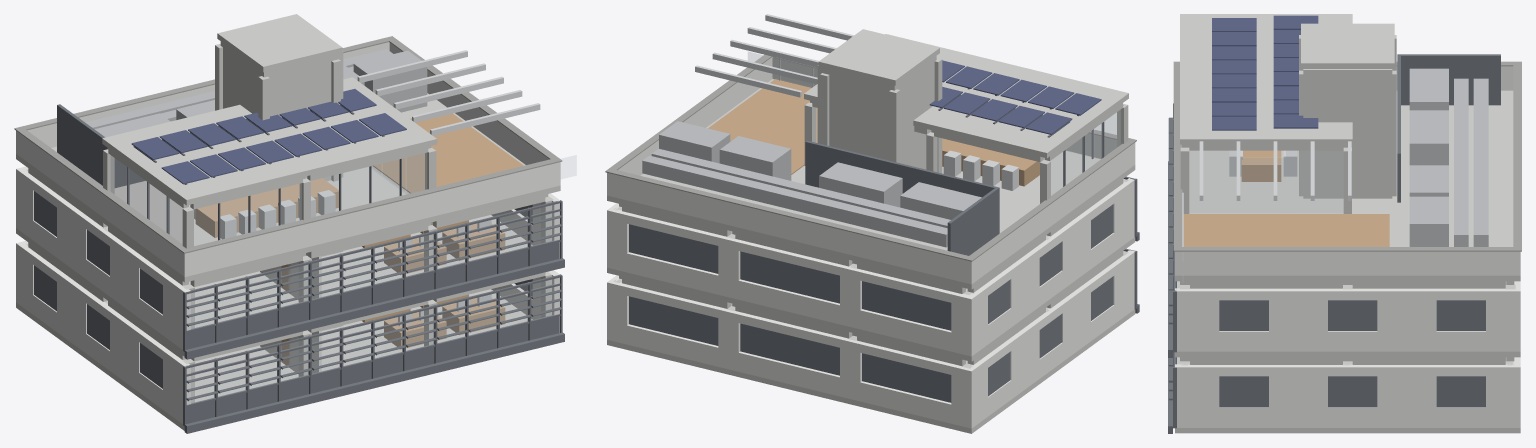
The model's file is newton-from-floor-4.glb.
The picture shows the model from 3 angles, left to right: view 1: azimuth 30°, elevation 25°; view 2: azimuth 150°, elevation 25°; view 3: azimuth 270°, elevation 25°; orthographic projection. The views are drawn at different scales.
Parts seen in each view (by area): view 1: IFC IfcSlab 7173, IFC IfcWall 18209, IFC IfcSlab 6377, IFC IfcSlab 6737, IFC IfcSlab 7097, IFC IfcCovering 43161, IFC IfcSlab 7268, IFC IfcCovering 36125, IFC IfcCovering 38741, IFC IfcWall 18247, IFC IfcWall 7249, IFC IfcFurnishingElement 42914 (+90 smaller); view 2: IFC IfcWall 18228, IFC IfcSlab 7173, IFC IfcFlowSegment 44149, IFC IfcWall 7230, IFC IfcCovering 43161, IFC IfcSlab 7268, IFC IfcWall 18247, IFC IfcSlab 7116, IFC IfcWall 44187, IFC IfcFlowSegment 44130, IFC IfcWindow 16703, IFC IfcWindow 17855 (+82 smaller); view 3: IFC IfcWall 7211, IFC IfcSlab 7173, IFC IfcWall 18266, IFC IfcSlab 7116, IFC IfcCovering 43161, IFC IfcSlab 7097, IFC IfcSlab 7268, IFC IfcWall 17152, IFC IfcWall 16000, IFC IfcWall 17114, IFC IfcWall 15962, IFC IfcWall 42895 (+70 smaller).
Boxes of the visible parts, bbox=[...] form: IFC IfcSlab 7173: bbox=[102, 77, 437, 205]; IFC IfcWall 18209: bbox=[181, 162, 560, 276]; IFC IfcSlab 6377: bbox=[122, 289, 532, 430]; IFC IfcSlab 6737: bbox=[122, 215, 532, 356]; IFC IfcSlab 7097: bbox=[122, 141, 560, 282]; IFC IfcCovering 43161: bbox=[373, 113, 523, 193]; IFC IfcSlab 7268: bbox=[217, 14, 342, 72]; IFC IfcCovering 36125: bbox=[184, 332, 564, 433]; IFC IfcCovering 38741: bbox=[184, 258, 564, 359]; IFC IfcWall 18247: bbox=[19, 133, 181, 274]; IFC IfcWall 7249: bbox=[263, 51, 343, 181]; IFC IfcFurnishingElement 42914: bbox=[195, 178, 338, 237]; IFC IfcWall 18228: bbox=[607, 173, 974, 284]; IFC IfcSlab 7173: bbox=[804, 34, 1128, 158]; IFC IfcFlowSegment 44149: bbox=[642, 155, 947, 247]; IFC IfcWall 7230: bbox=[817, 66, 894, 160]; IFC IfcCovering 43161: bbox=[708, 79, 817, 174]; IFC IfcSlab 7268: bbox=[818, 29, 939, 85]; IFC IfcWall 18247: bbox=[974, 144, 1132, 281]; IFC IfcSlab 7116: bbox=[607, 173, 1032, 289]; IFC IfcWall 44187: bbox=[805, 140, 996, 197]; IFC IfcFlowSegment 44130: bbox=[651, 148, 950, 228]; IFC IfcWindow 16703: bbox=[740, 323, 839, 375]; IFC IfcWindow 17855: bbox=[740, 251, 839, 303]; IFC IfcWall 7211: bbox=[1303, 69, 1392, 198]; IFC IfcSlab 7173: bbox=[1180, 14, 1352, 144]; IFC IfcWall 18266: bbox=[1181, 251, 1514, 275]; IFC IfcSlab 7116: bbox=[1392, 90, 1520, 281]; IFC IfcCovering 43161: bbox=[1183, 214, 1389, 246]; IFC IfcSlab 7097: bbox=[1175, 150, 1303, 281]; IFC IfcSlab 7268: bbox=[1301, 23, 1394, 68]; IFC IfcWall 17152: bbox=[1377, 288, 1436, 351]; IFC IfcWall 16000: bbox=[1377, 365, 1436, 427]; IFC IfcWall 17114: bbox=[1269, 288, 1327, 351]; IFC IfcWall 15962: bbox=[1269, 365, 1327, 427]; IFC IfcWall 42895: bbox=[1286, 151, 1343, 213].
Size of the model in its own units: 18.99 by 13.05 by 14.33.
